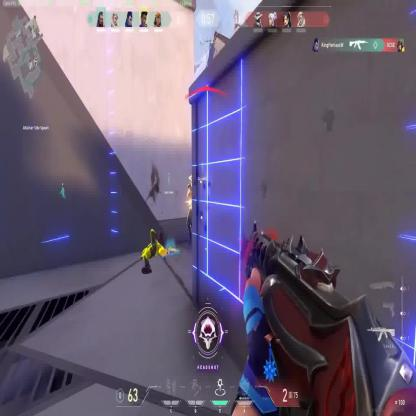enemy: (187, 174, 202, 247)
enemy_head: (189, 174, 198, 186)
